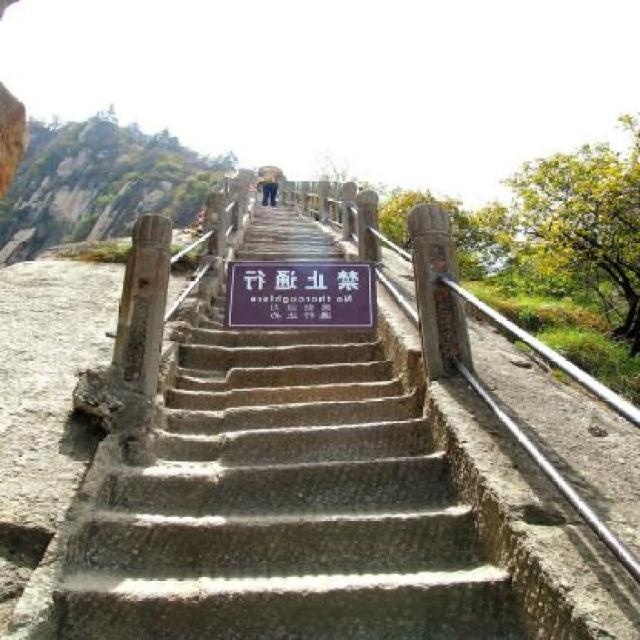stair: (41, 194, 535, 640)
